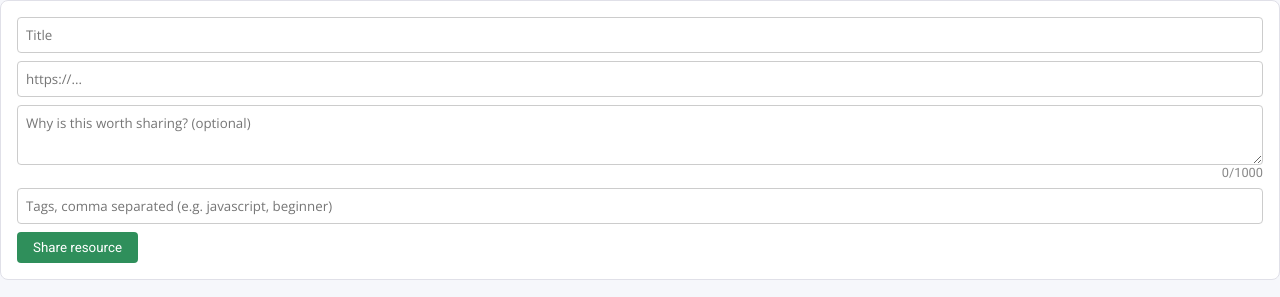
Test: ResourceForm tag autocomplete › suggests existing tags and inserts the one selected
In the field with placeholder "Tags, comma separated (e.g. javascript, beginner)": (640,206) left=17, top=188, right=1263, bottom=224, type "java"
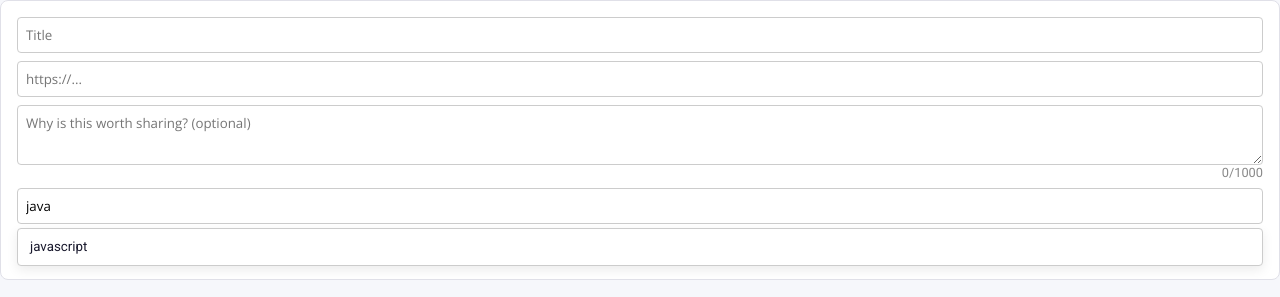
Click the option "javascript": (59,247) left=22, top=233, right=1258, bottom=261
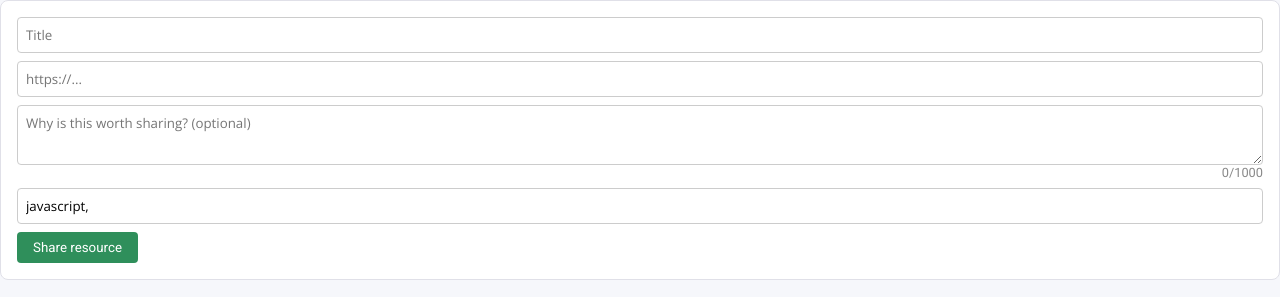
Expected: the field with placeholder "Tags, comma separated (e.g. javascript, beginner)" holds "javascript, ", left=17, top=188, right=1263, bottom=224
